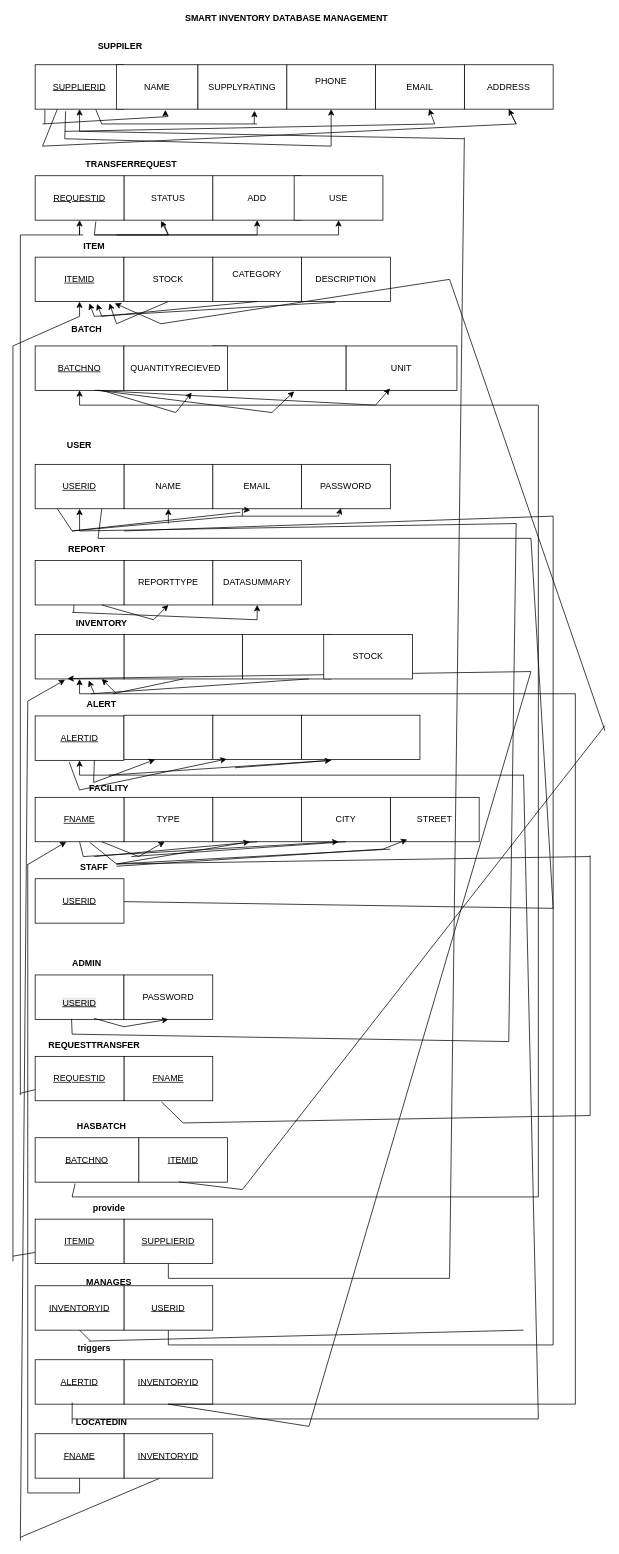
Image size: 619x1554. Some labels were removed from this diagram. Each missing label, with the centre of its shape:
"ALERTTYPE" belongs at point (168, 737).
"COUNTRY" belongs at point (257, 819).
"EXPIRYDATE" belongs at point (279, 367).
"INVETORYID" belongs at point (79, 656).
"LOCATION" belongs at point (286, 656).
"LOWSTOCKTHRESHOLD" belongs at point (182, 656).
"NOTIFICATION DATA" belongs at point (360, 737).
"REPORTID" belongs at point (79, 582).
"THRESHOLD" belongs at point (257, 737).
